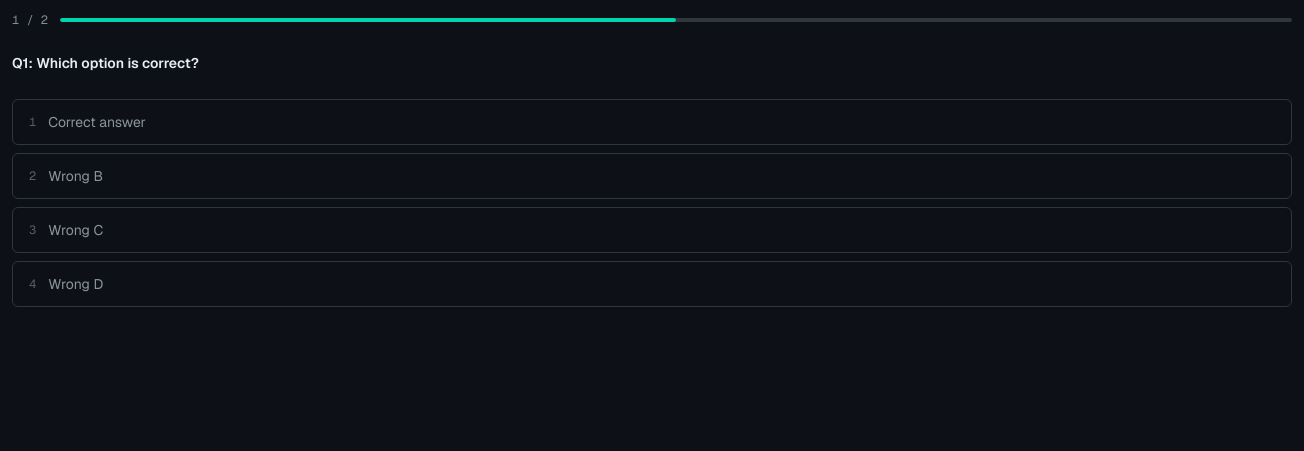
it: Quiz › disables all option buttons after answering
This screenshot has width=1304, height=451.
Step 1. Click the radio button labelled "3 Wrong C" → (76, 230), box x1=12 y1=207 x2=1292 y2=253
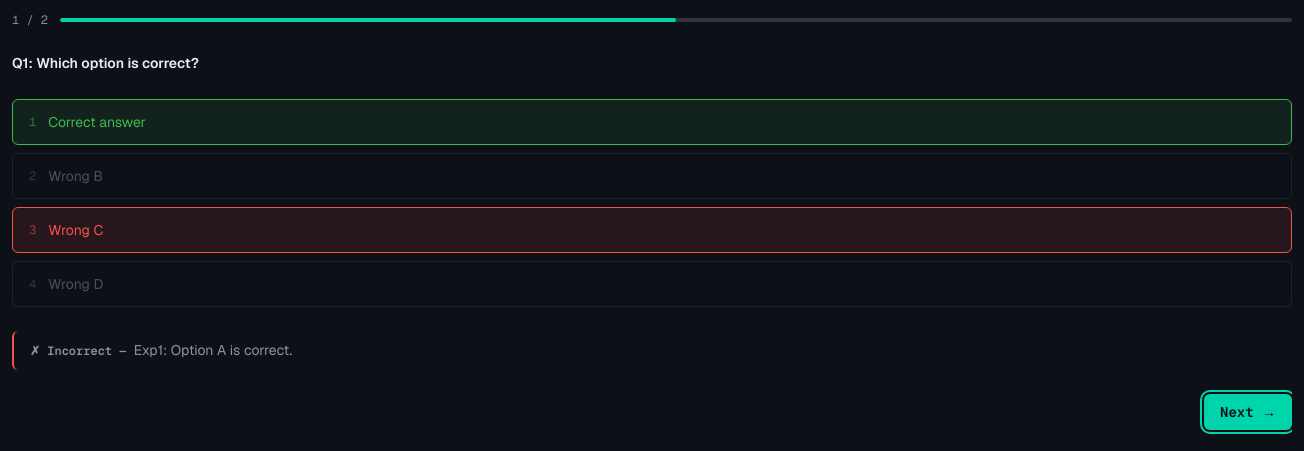
Expected: the radio button labelled "1 Correct answer" is disabled, x1=12 y1=99 x2=1292 y2=145
Expected: the radio button labelled "2 Wrong B" is disabled, x1=12 y1=153 x2=1292 y2=199
Expected: the radio button labelled "3 Wrong C" is disabled, x1=12 y1=207 x2=1292 y2=253
